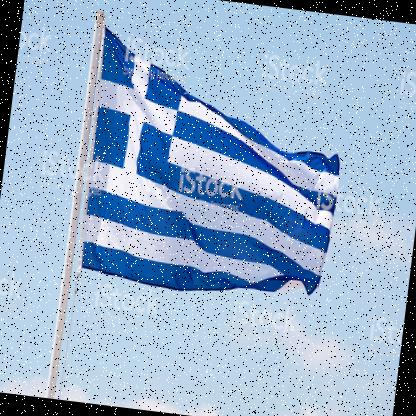gr: (74, 18, 356, 309)
